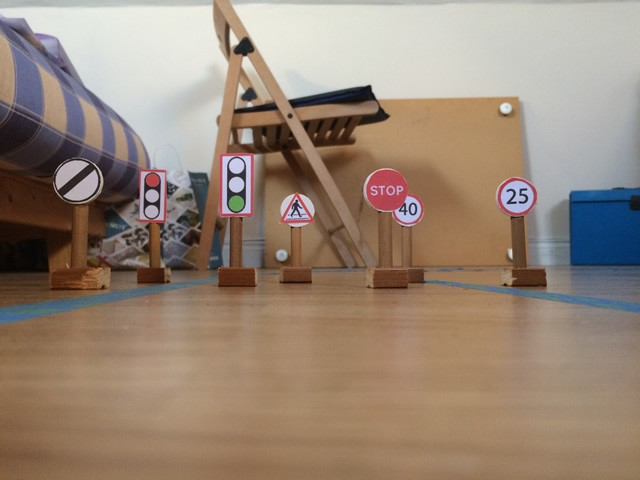Full Speed: (47, 155, 107, 207)
Green Traffic Light: (219, 151, 256, 215)
Person Crossing: (276, 191, 317, 230)
Red Traffic Light: (136, 167, 170, 221)
Speed Limit 25: (496, 178, 541, 218)
Stop Sign: (361, 166, 407, 210)
